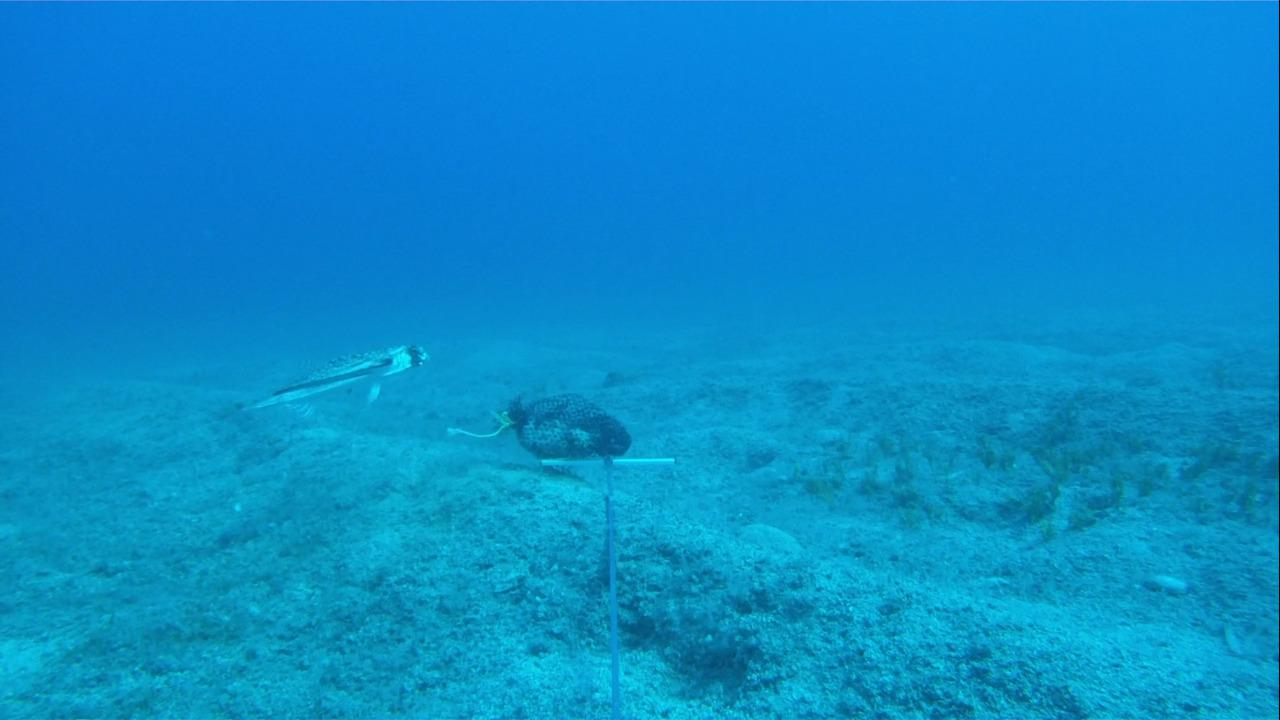dactylopterus: (202, 332, 437, 426)
